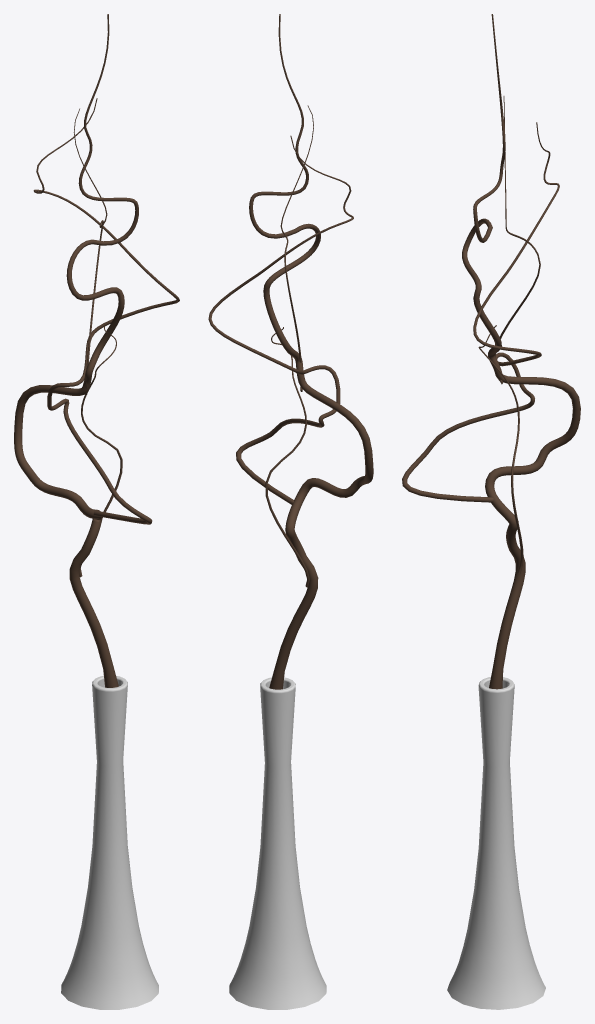
File: Vase 3.FBX
3 views of the same model, side by side, from view 1: azimuth 30°, elevation 25°; view 2: azimuth 210°, elevation 25°; view 3: azimuth 270°, elevation 25° (orthographic).
Parts seen in each view (by area): view 1: vase 3; view 2: vase 3; view 3: vase 3.
Boxes of the visible parts, bbox=[...] form: vase 3: bbox=[14, 14, 179, 1009]; vase 3: bbox=[208, 14, 373, 1009]; vase 3: bbox=[402, 14, 580, 1009].
Bounding box in the file's own units: 195 × 248 × 1487.
